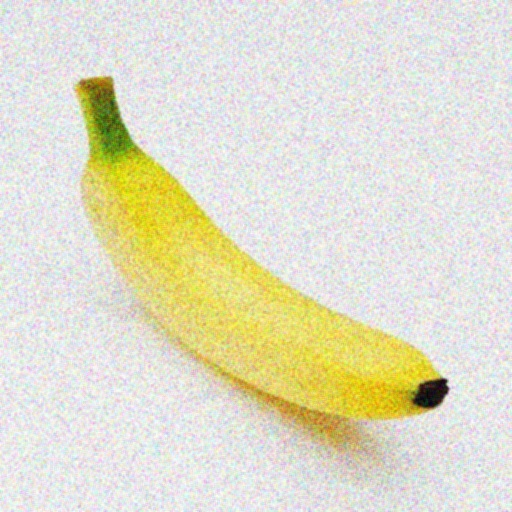fruit: (403, 200, 479, 512)
